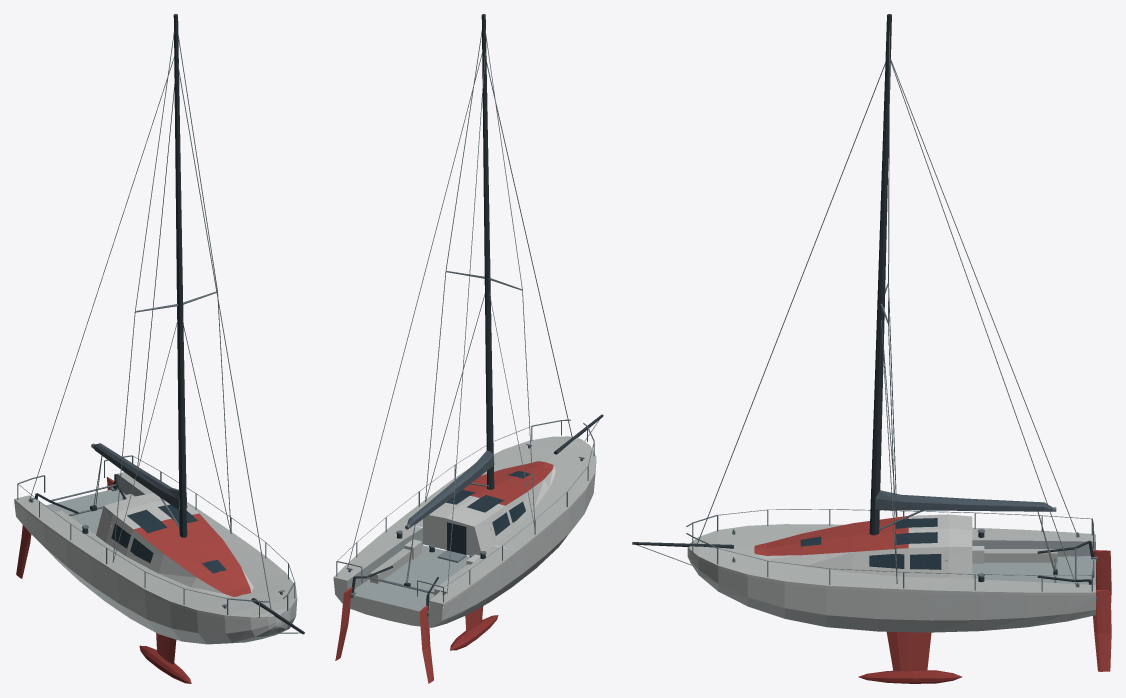
File: KJP_Class40_lazybag.glb
3 views of the same model, side by side, from view 1: azimuth 30°, elevation 25°; view 2: azimuth 150°, elevation 25°; view 3: azimuth 270°, elevation 25° (orthographic). The views are drawn at different scales.
Visible parts, largest first — view 1: KJP_Class40; view 2: KJP_Class40; view 3: KJP_Class40.
Boxes of the visible parts, left/top/right/bottom form: KJP_Class40: left=14, top=14, right=304, bottom=683; KJP_Class40: left=333, top=14, right=603, bottom=683; KJP_Class40: left=632, top=14, right=1111, bottom=683.
Size of the model in its own units: 4.5 by 22 by 14.31.
